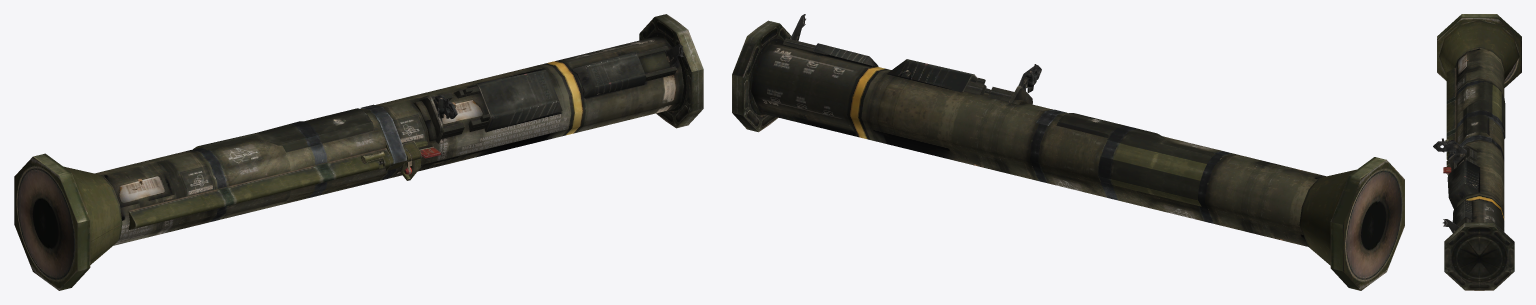
The model's file is weapon_at4_LOD0.obj.
3 views of the same model, side by side, from view 1: azimuth 30°, elevation 25°; view 2: azimuth 150°, elevation 25°; view 3: azimuth 270°, elevation 25° (orthographic). The views are drawn at different scales.
Visible parts, largest first — view 1: mtl_weapon_at4; view 2: mtl_weapon_at4; view 3: mtl_weapon_at4.
Boxes of the visible parts, x1,y1,x2,y2 form: mtl_weapon_at4: [14, 14, 703, 290]; mtl_weapon_at4: [732, 14, 1404, 290]; mtl_weapon_at4: [1433, 14, 1521, 290].
Bounding box in the file's own units: 91.43 × 15.93 × 16.65.
1 material, 1 textured.
